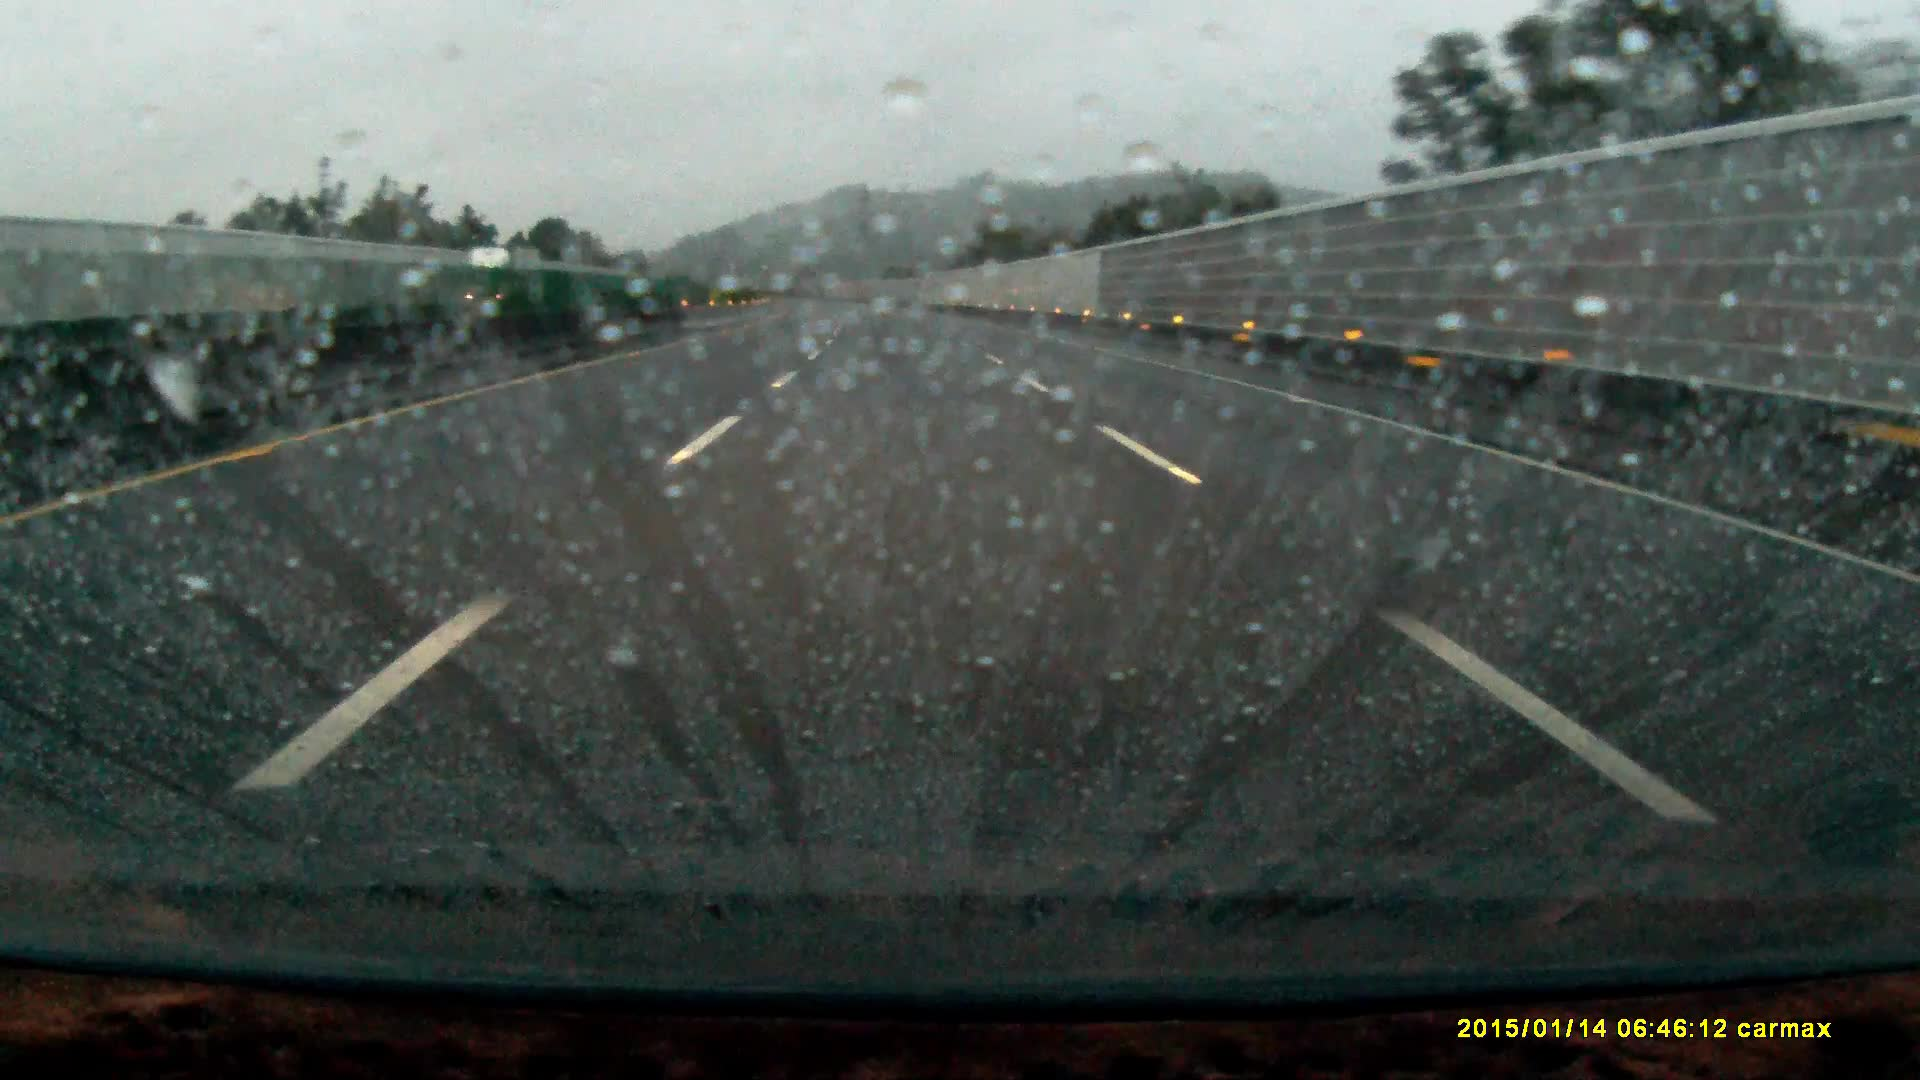vehicle: (464, 247, 545, 318)
